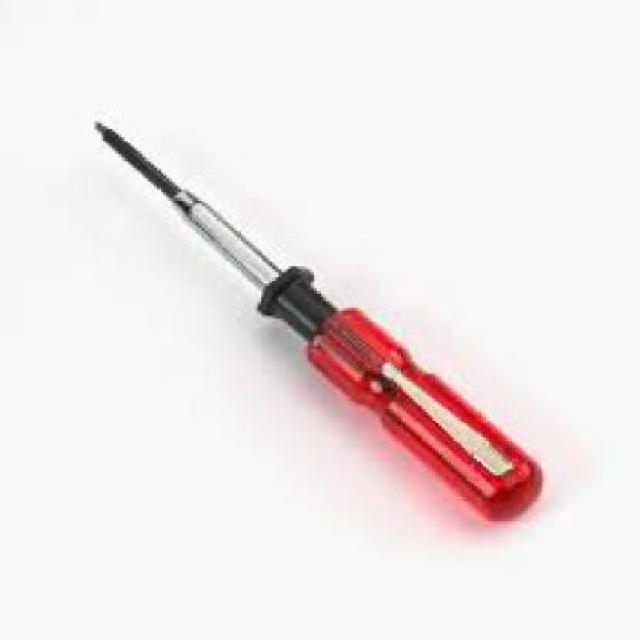screwdriver: (94, 121, 546, 527)
